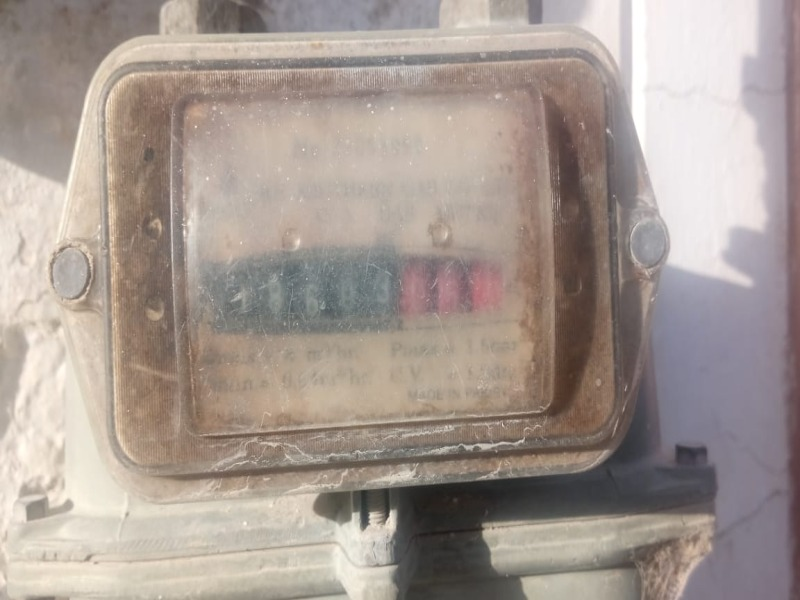ssgc: (200, 252, 513, 323)
